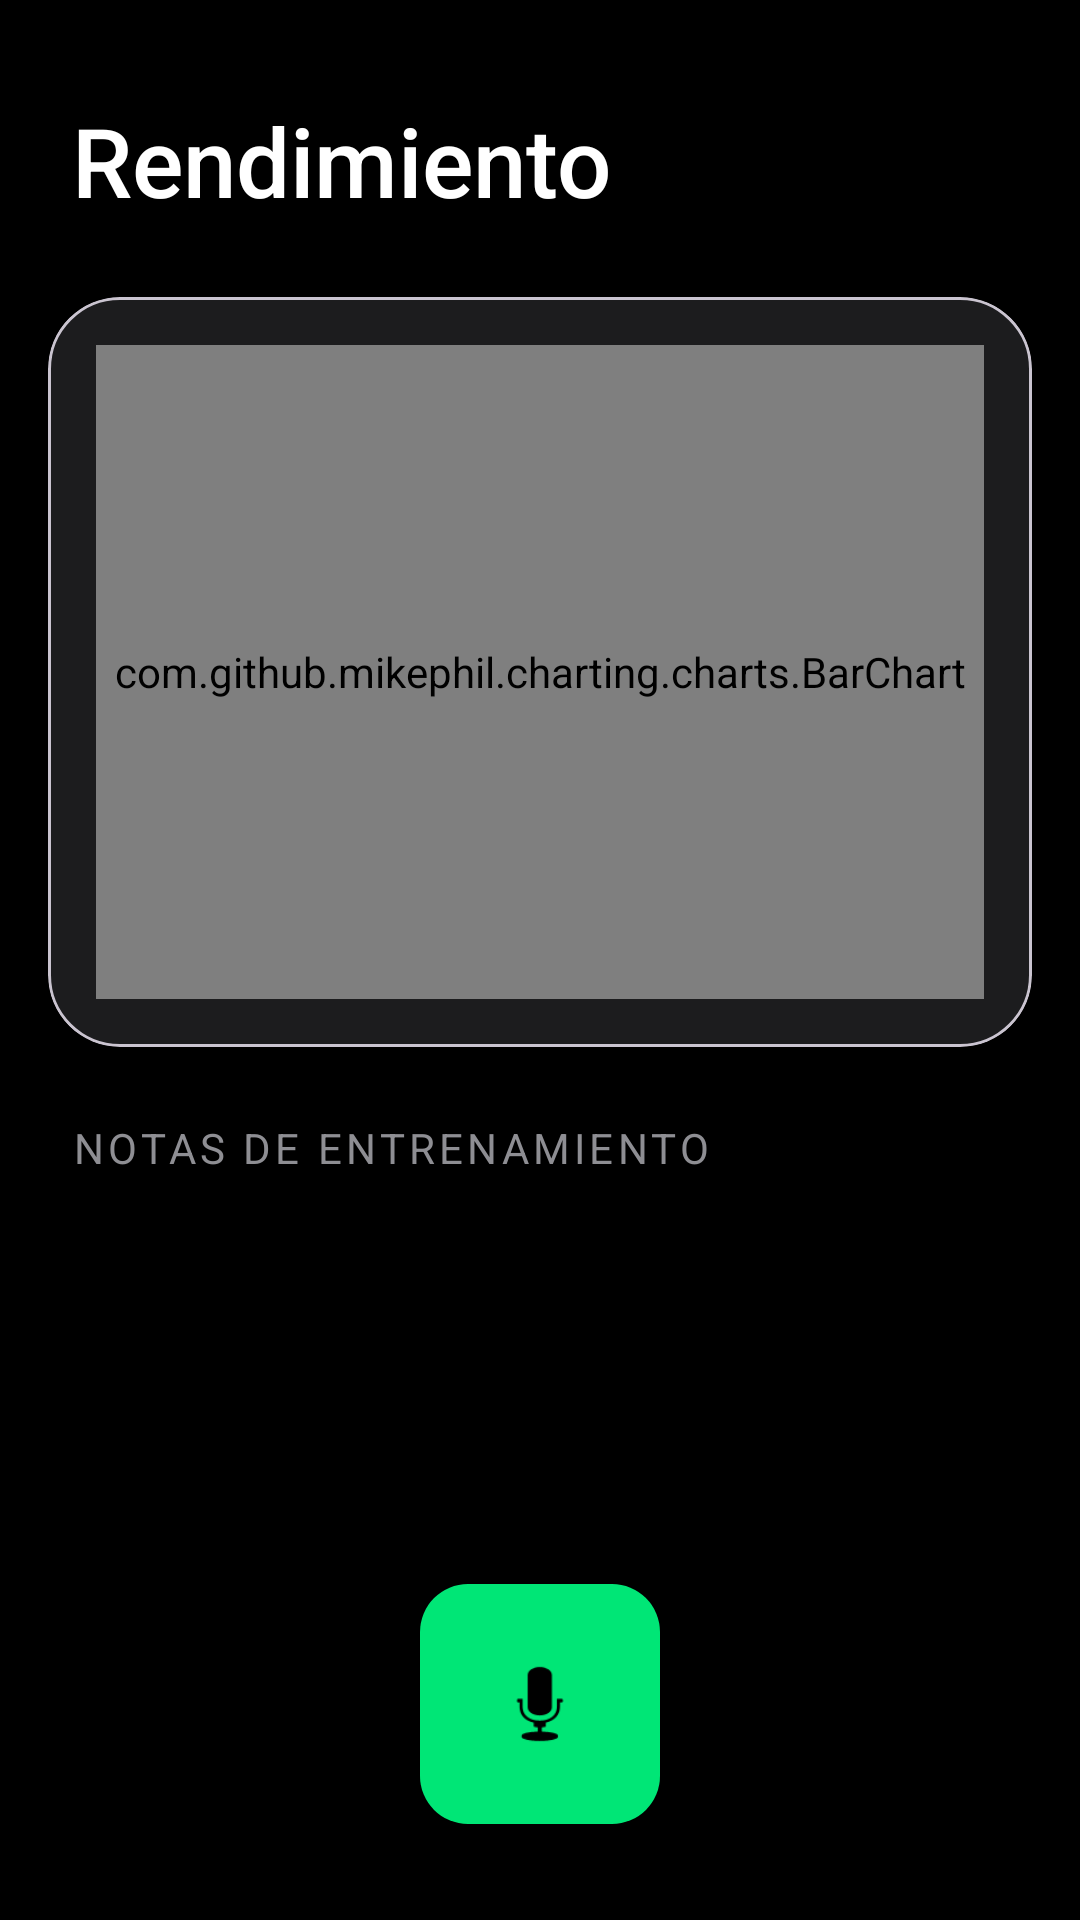

Icons on this 1080 x 1920 Android screen, each with the point to tap as [x,y]:
speak now: [540,1704]
